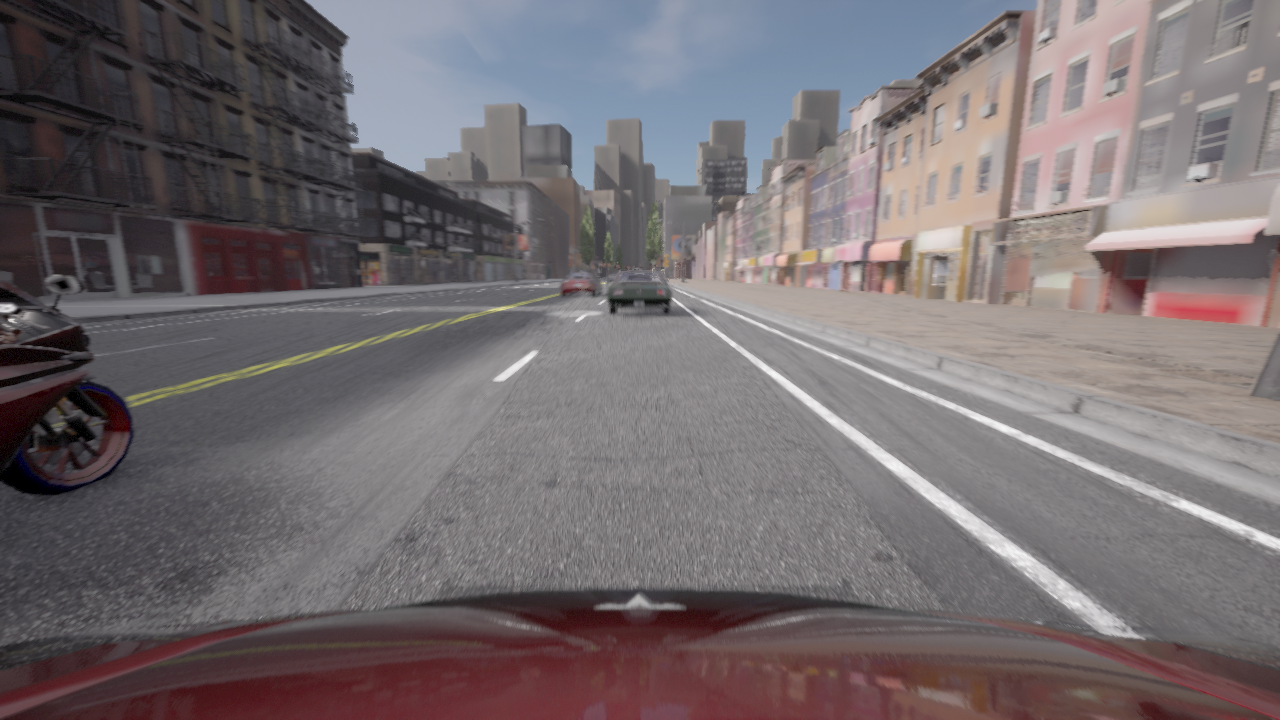cyclist: (0, 588, 1279, 719), (0, 275, 133, 495), (607, 271, 671, 313), (560, 271, 601, 296), (608, 272, 618, 283), (633, 269, 645, 270)
